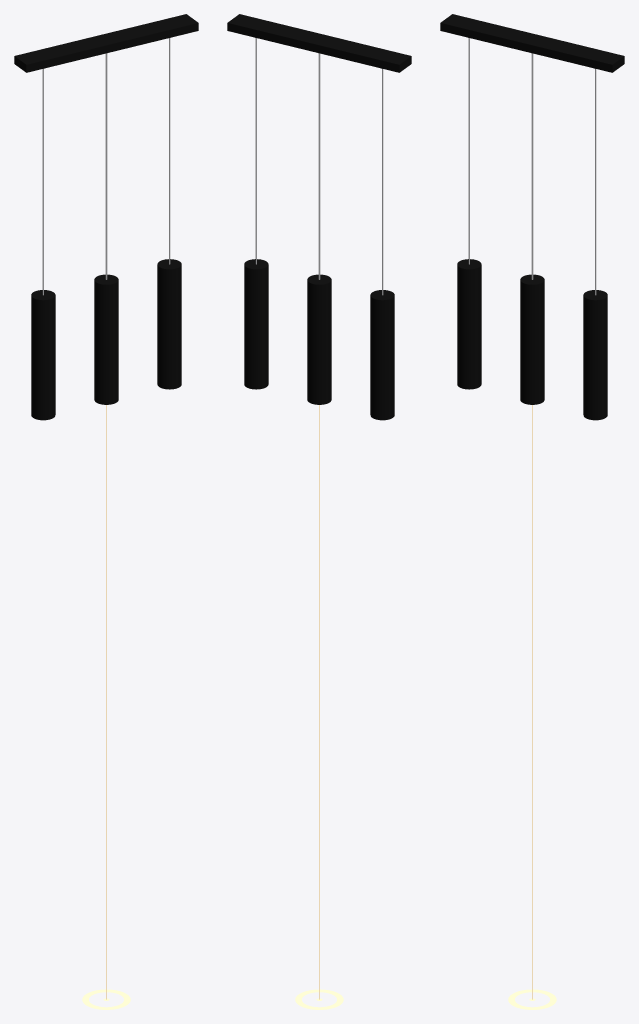
Rendered from suspension-cylindrique-noire-3-lumieres-modele-arothis.glb.
3 renders of one model, left to right at view 1: azimuth 30°, elevation 25°; view 2: azimuth 150°, elevation 25°; view 3: azimuth 330°, elevation 25°, orthographic.
Visible parts, largest first — view 1: suspension-cylindrique-noire-3-lumieres-modele-arothis, reperage-fil; view 2: suspension-cylindrique-noire-3-lumieres-modele-arothis, reperage-fil; view 3: suspension-cylindrique-noire-3-lumieres-modele-arothis, reperage-fil.
Part boxes in pixels (x1=…): suspension-cylindrique-noire-3-lumieres-modele-arothis: x1=14, y1=14, x2=198, y2=420; reperage-fil: x1=106, y1=405, x2=106, y2=999; suspension-cylindrique-noire-3-lumieres-modele-arothis: x1=227, y1=14, x2=411, y2=420; reperage-fil: x1=319, y1=405, x2=319, y2=999; suspension-cylindrique-noire-3-lumieres-modele-arothis: x1=440, y1=14, x2=624, y2=420; reperage-fil: x1=532, y1=405, x2=532, y2=999.
Size of the model in its own units: 0.45 by 2.4 by 0.11.
